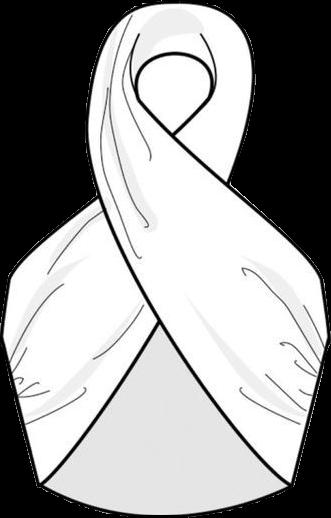Bodice: (1, 3, 329, 515)
Neckline: (129, 2, 218, 133)
Waistline: (157, 316, 291, 488), (37, 316, 163, 489)
